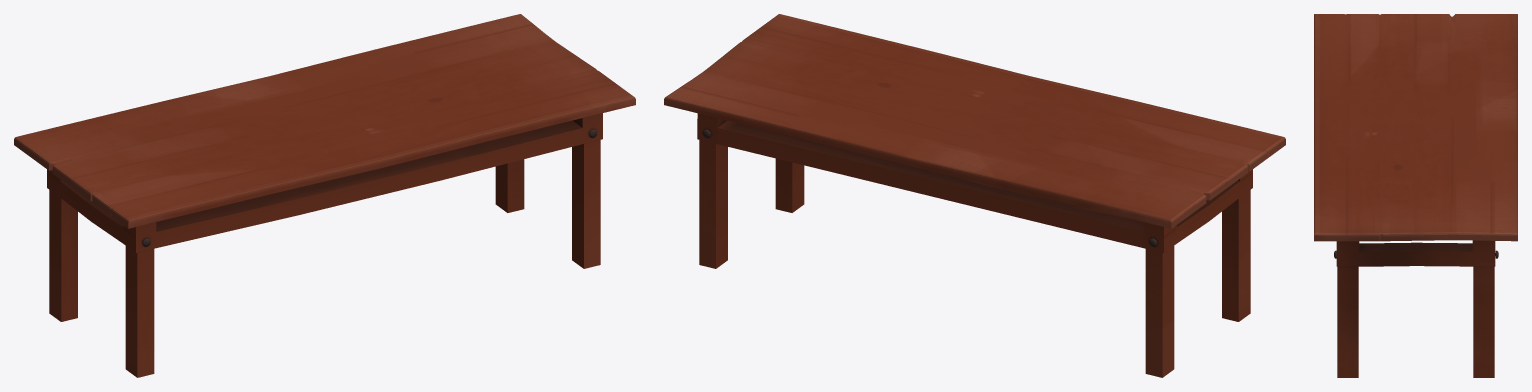
Rendered from Table.fbx.
3 renders of one model, left to right at view 1: azimuth 30°, elevation 25°; view 2: azimuth 150°, elevation 25°; view 3: azimuth 270°, elevation 25°, orthographic. The views are drawn at different scales.
Visible parts, largest first — view 1: Bolt.017; view 2: Bolt.017; view 3: Bolt.017.
Boxes of the visible parts, x1,y1,x2,y2 form: Bolt.017: (14, 14, 635, 377); Bolt.017: (664, 14, 1285, 377); Bolt.017: (1314, 14, 1517, 377).
Size of the model in its own units: 726 by 236 by 283.
